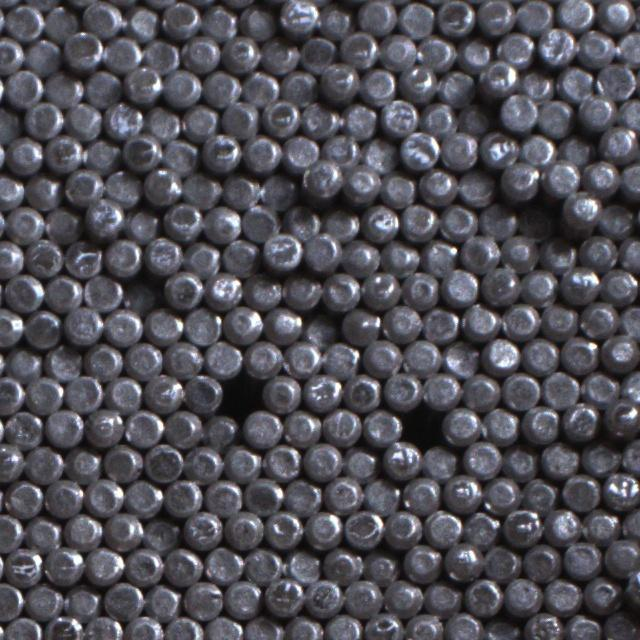tool: (302, 160, 341, 202), (502, 506, 542, 546), (480, 264, 520, 304), (560, 264, 600, 304), (298, 32, 338, 72), (42, 545, 82, 584), (203, 544, 243, 583), (85, 406, 124, 446), (24, 443, 64, 482), (4, 408, 44, 447), (163, 269, 203, 308), (45, 132, 84, 172), (402, 542, 441, 582), (102, 443, 142, 482), (382, 369, 421, 409), (44, 407, 84, 446), (201, 132, 240, 172), (122, 132, 162, 171), (478, 129, 518, 168), (183, 579, 222, 619), (43, 476, 82, 516), (264, 576, 304, 615), (498, 159, 538, 198), (560, 192, 599, 232), (243, 474, 282, 514), (63, 511, 102, 550), (63, 305, 102, 344), (84, 545, 123, 584), (183, 305, 222, 344), (463, 438, 502, 477), (142, 166, 181, 205), (183, 509, 222, 548), (124, 408, 163, 447), (382, 439, 421, 478), (562, 538, 601, 577), (143, 306, 182, 345), (63, 240, 102, 279), (401, 474, 440, 513), (342, 372, 381, 411), (4, 1, 43, 40), (501, 371, 540, 410), (102, 33, 141, 72), (261, 373, 300, 412), (520, 404, 559, 443), (362, 269, 401, 308), (183, 372, 222, 411), (578, 299, 617, 338), (221, 33, 260, 72), (4, 271, 43, 310), (84, 272, 123, 311), (145, 442, 184, 481), (3, 545, 42, 584), (84, 476, 123, 515), (204, 338, 242, 378), (340, 306, 380, 344), (162, 546, 200, 586), (440, 266, 478, 306), (321, 338, 359, 378), (343, 508, 381, 548), (164, 200, 202, 240), (4, 478, 42, 518), (184, 442, 222, 482), (64, 166, 102, 206), (243, 339, 281, 379), (602, 396, 640, 436), (162, 477, 202, 515), (143, 235, 181, 275), (458, 233, 498, 271), (84, 197, 124, 235), (398, 63, 438, 101), (322, 130, 362, 168), (541, 369, 579, 408), (282, 407, 320, 446), (561, 472, 600, 510), (303, 441, 341, 480), (421, 370, 459, 409), (104, 510, 142, 549), (383, 508, 422, 546), (104, 236, 142, 275), (442, 473, 481, 511), (262, 231, 300, 270), (283, 337, 321, 376), (520, 335, 558, 374), (42, 204, 80, 243), (24, 237, 62, 276), (457, 168, 496, 206), (302, 372, 340, 411), (205, 269, 243, 308), (242, 133, 280, 172), (304, 509, 342, 548), (23, 309, 61, 348), (103, 581, 142, 619), (400, 131, 439, 169), (602, 469, 640, 508), (124, 545, 162, 584), (482, 336, 521, 374), (319, 62, 357, 101), (5, 135, 43, 174), (4, 67, 43, 105), (522, 542, 560, 581), (224, 509, 262, 548), (480, 406, 519, 444), (124, 63, 162, 102), (600, 332, 639, 370), (361, 202, 399, 241), (322, 406, 360, 445), (105, 373, 144, 411), (499, 301, 538, 339), (477, 58, 516, 96), (602, 536, 640, 575), (304, 576, 342, 615), (25, 373, 63, 412), (321, 271, 360, 309), (482, 542, 520, 581), (44, 272, 82, 311), (201, 68, 239, 107), (223, 578, 262, 616), (498, 91, 536, 130), (64, 444, 102, 483), (540, 234, 578, 273), (25, 98, 63, 137), (581, 438, 620, 476), (142, 513, 180, 552), (561, 401, 599, 440), (219, 99, 258, 137), (325, 545, 363, 584), (600, 265, 638, 304), (244, 546, 282, 585), (44, 341, 82, 380), (343, 164, 380, 204), (242, 409, 280, 447), (163, 408, 201, 446), (362, 407, 400, 445), (264, 509, 302, 547), (264, 306, 302, 344), (419, 166, 457, 204), (263, 441, 301, 479), (104, 307, 142, 345), (340, 29, 378, 67), (181, 33, 219, 71), (417, 33, 455, 71), (63, 582, 101, 620), (164, 339, 202, 377), (402, 337, 440, 375), (559, 335, 597, 373), (441, 406, 479, 444), (520, 266, 558, 304), (581, 156, 619, 194), (83, 67, 121, 105), (537, 26, 575, 64), (462, 509, 500, 547), (579, 232, 617, 270), (362, 337, 400, 375), (543, 576, 581, 614), (540, 440, 578, 478), (64, 372, 102, 410), (443, 542, 481, 580), (556, 64, 594, 102), (42, 4, 80, 42), (144, 372, 182, 410), (520, 475, 558, 513), (222, 442, 260, 480), (543, 506, 581, 544), (142, 582, 180, 620), (160, 136, 198, 174), (496, 29, 534, 67), (182, 239, 220, 277), (343, 578, 381, 616), (224, 305, 262, 343), (481, 475, 519, 513), (383, 303, 421, 341), (302, 232, 340, 270), (282, 271, 320, 309), (421, 442, 459, 480), (200, 3, 238, 41), (203, 477, 241, 515), (25, 582, 63, 620), (162, 0, 200, 38), (323, 474, 361, 512), (44, 69, 82, 107), (362, 546, 400, 584), (260, 36, 298, 74), (142, 36, 180, 74), (464, 577, 502, 615), (24, 514, 62, 552), (220, 236, 258, 274), (258, 172, 296, 210), (581, 574, 619, 612), (504, 576, 542, 614), (320, 206, 358, 244), (222, 171, 260, 209), (424, 508, 462, 546), (24, 35, 62, 73), (478, 202, 516, 240), (381, 97, 419, 135), (124, 478, 162, 516), (362, 476, 400, 514), (536, 96, 574, 134), (541, 157, 579, 195), (23, 171, 61, 209), (182, 170, 220, 208), (262, 97, 300, 135), (501, 232, 539, 270), (539, 300, 577, 338), (300, 98, 338, 136), (400, 202, 438, 240), (576, 92, 614, 130), (460, 300, 498, 338), (381, 238, 419, 276), (598, 122, 636, 160), (122, 274, 160, 312), (223, 372, 261, 410), (516, 201, 554, 239), (401, 406, 439, 444), (461, 371, 498, 410), (163, 67, 200, 106), (597, 60, 634, 99), (518, 131, 556, 168), (359, 67, 397, 104), (84, 341, 122, 378), (440, 130, 477, 168), (437, 66, 474, 104), (202, 205, 240, 242), (317, 1, 355, 38), (239, 2, 276, 40), (6, 205, 44, 242), (64, 31, 102, 68), (282, 133, 320, 170), (421, 305, 458, 343), (379, 33, 417, 70), (342, 238, 379, 276), (124, 341, 162, 378), (402, 268, 439, 306), (84, 0, 122, 37), (580, 369, 618, 406), (103, 101, 141, 138), (284, 547, 322, 584), (240, 69, 278, 106), (420, 237, 458, 274), (577, 29, 614, 67), (581, 505, 619, 542), (379, 168, 416, 206), (65, 99, 102, 137), (201, 411, 239, 448), (442, 338, 479, 376), (283, 476, 321, 513), (438, 202, 476, 239), (104, 167, 141, 205), (123, 2, 160, 40), (361, 134, 398, 172), (456, 35, 494, 72), (283, 204, 321, 241), (280, 65, 317, 103), (384, 578, 423, 614), (517, 66, 556, 102), (278, 0, 318, 35), (181, 103, 218, 140), (342, 101, 379, 138), (83, 136, 120, 173), (240, 204, 277, 241), (143, 104, 180, 141), (5, 343, 42, 380), (597, 200, 634, 237), (502, 442, 539, 479), (244, 272, 282, 308), (342, 444, 378, 482), (124, 205, 160, 243), (424, 578, 461, 614), (398, 0, 434, 37), (420, 99, 457, 135), (557, 132, 594, 168), (456, 98, 493, 134), (301, 313, 337, 350), (436, 0, 474, 35), (476, 0, 514, 34), (357, 0, 396, 33), (516, 0, 554, 33), (596, 0, 634, 32), (364, 610, 403, 640), (404, 611, 444, 640), (444, 610, 482, 640), (556, 0, 594, 30), (524, 610, 562, 640), (323, 611, 362, 640), (564, 611, 602, 640), (602, 611, 640, 640), (284, 612, 322, 640), (204, 613, 243, 640), (164, 613, 203, 640), (84, 613, 123, 640), (44, 613, 83, 640), (244, 613, 282, 640), (125, 613, 163, 640), (4, 614, 43, 640), (0, 442, 24, 482), (0, 238, 24, 278), (0, 580, 24, 620), (482, 616, 522, 640), (0, 374, 25, 412), (0, 512, 24, 551), (615, 29, 640, 66), (0, 306, 23, 346), (0, 170, 24, 208), (0, 34, 23, 72), (617, 93, 640, 130), (0, 104, 22, 142), (618, 302, 640, 340), (618, 233, 640, 270), (619, 160, 640, 198), (621, 436, 640, 474), (621, 503, 640, 540), (623, 566, 640, 606), (622, 368, 640, 404)
